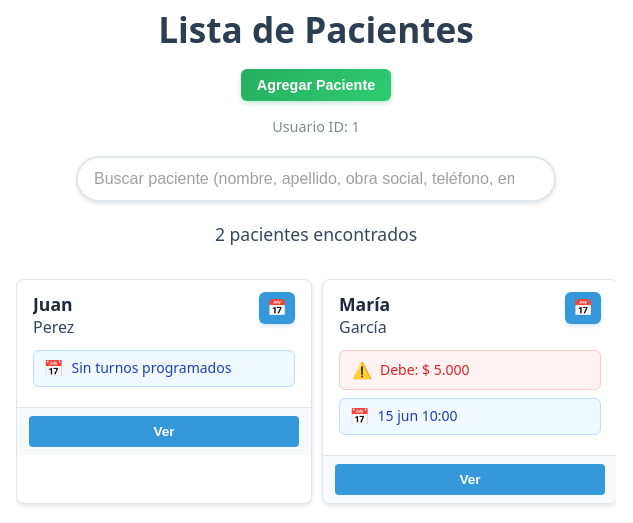
Scenario: Patients component › clears search term when clear button is clicked
The image size is (633, 523).
Expected: the heading "Juan" is shown, 33,292 -> 73,316
Replace the text in the field with placeholder "Buscar paciente" with "Juan": (316, 179) 76,156 -> 556,202
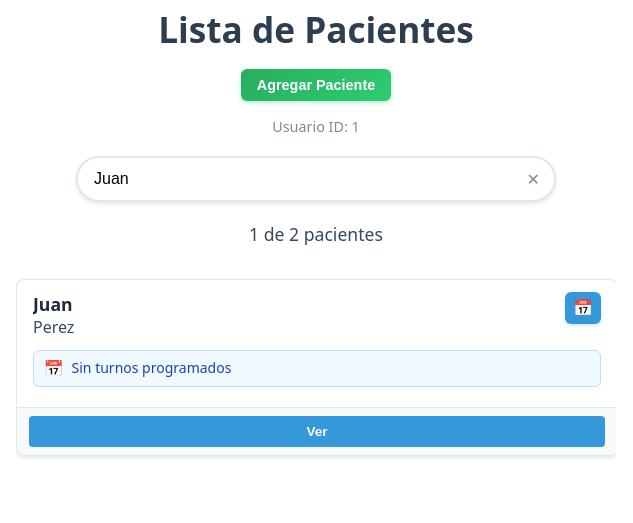
Click the button titled "Limpiar búsqueda": (533, 179) 523,166 -> 544,193
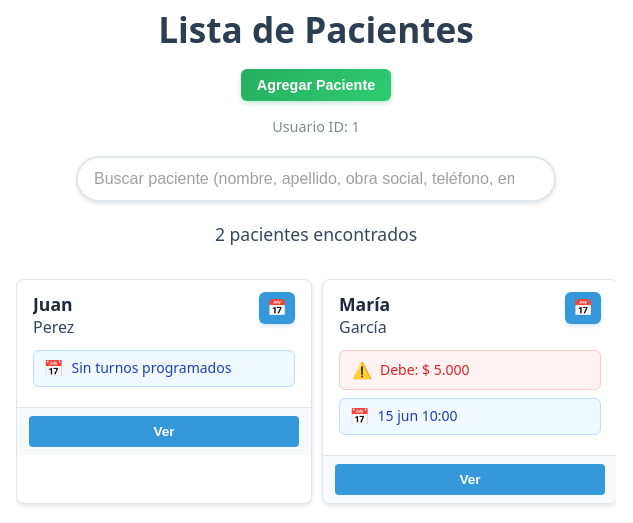
Expected: the field with placeholder "Buscar paciente" is empty, 76,156 -> 556,202
